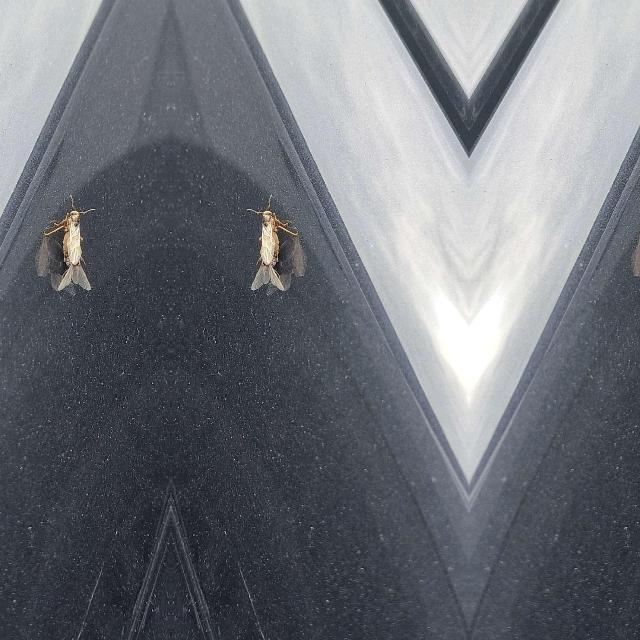Lasius: (247, 201, 287, 265), (53, 201, 93, 265), (242, 240, 284, 294), (56, 240, 98, 294)
